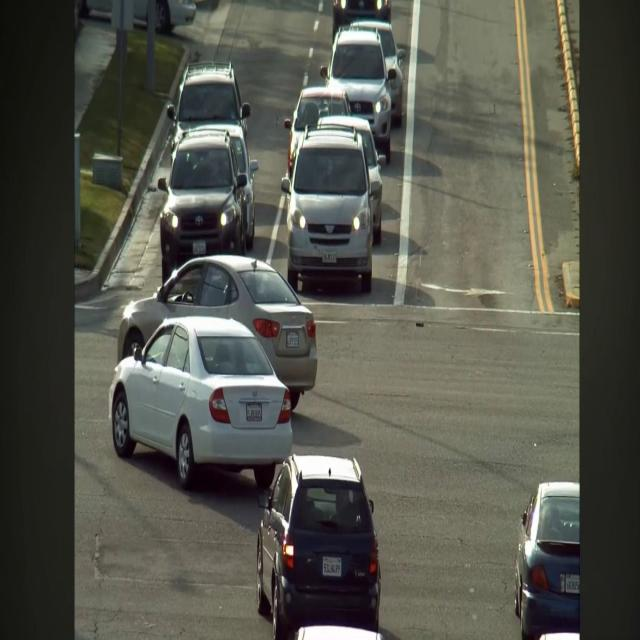car: (109, 317, 292, 489), (117, 256, 317, 410), (256, 455, 380, 639), (281, 127, 372, 293), (158, 128, 248, 281), (320, 30, 396, 163), (515, 482, 579, 639), (318, 116, 385, 245), (167, 61, 250, 146), (207, 124, 258, 250), (349, 20, 405, 126), (284, 87, 350, 176), (333, 0, 391, 39), (156, 0, 196, 33), (294, 625, 383, 639), (74, 0, 81, 40), (539, 632, 579, 639)
